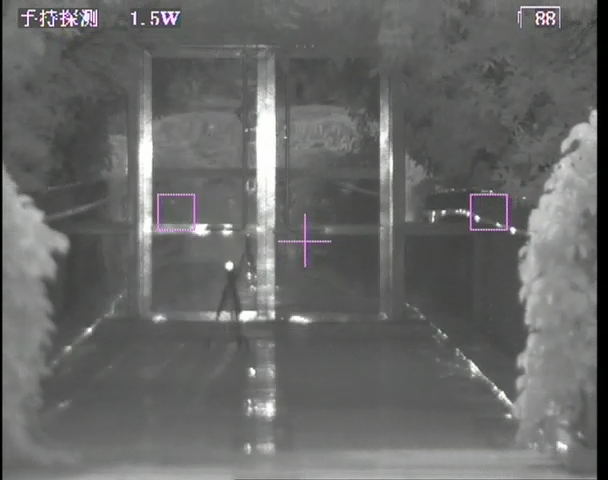my: (223, 259, 237, 273)
